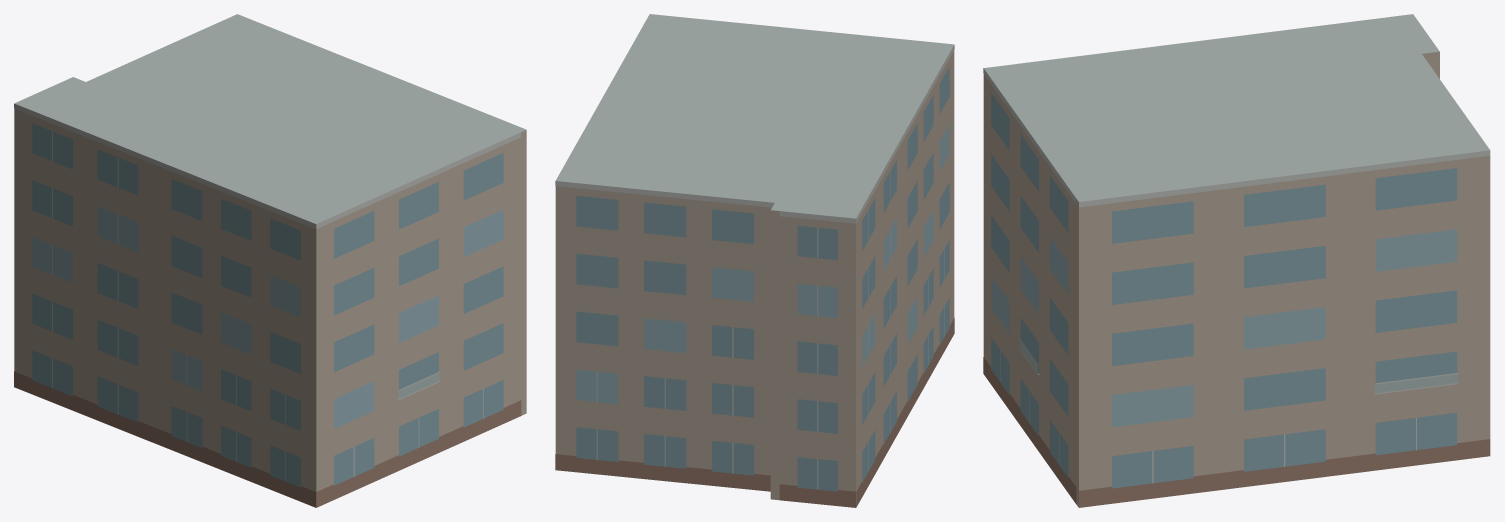
The model's file is survey-upis-32617219.glb.
The picture shows the model from 3 angles, left to right: view 1: azimuth 30°, elevation 25°; view 2: azimuth 150°, elevation 25°; view 3: azimuth 270°, elevation 25°; orthographic projection. The views are drawn at different scales.
Parts seen in each view (by area): view 1: survey-upis-32617219.tmp; view 2: survey-upis-32617219.tmp; view 3: survey-upis-32617219.tmp.
Part boxes in pixels (x1,y1,x2,y2): survey-upis-32617219.tmp: (14,14,526,507); survey-upis-32617219.tmp: (555,14,954,507); survey-upis-32617219.tmp: (983,14,1490,507).
Size of the model in its own units: 18.35 by 13.9 by 20.89.
